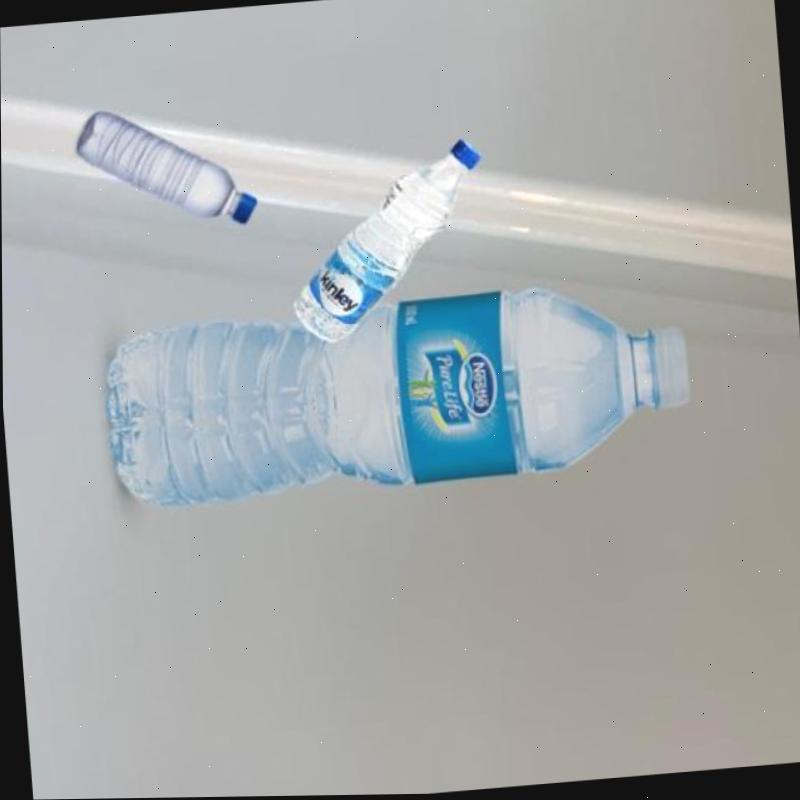botella: (101, 280, 695, 507), (282, 141, 490, 345), (71, 96, 259, 240)
